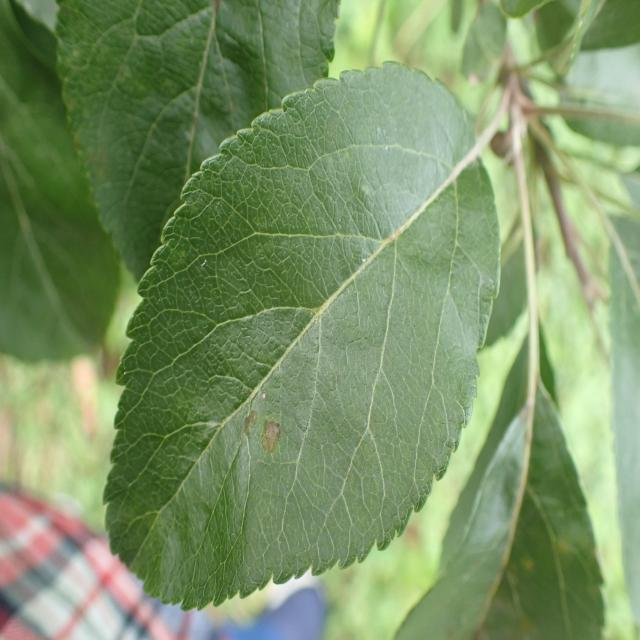scab: (49, 2, 249, 204), (182, 338, 302, 515)
